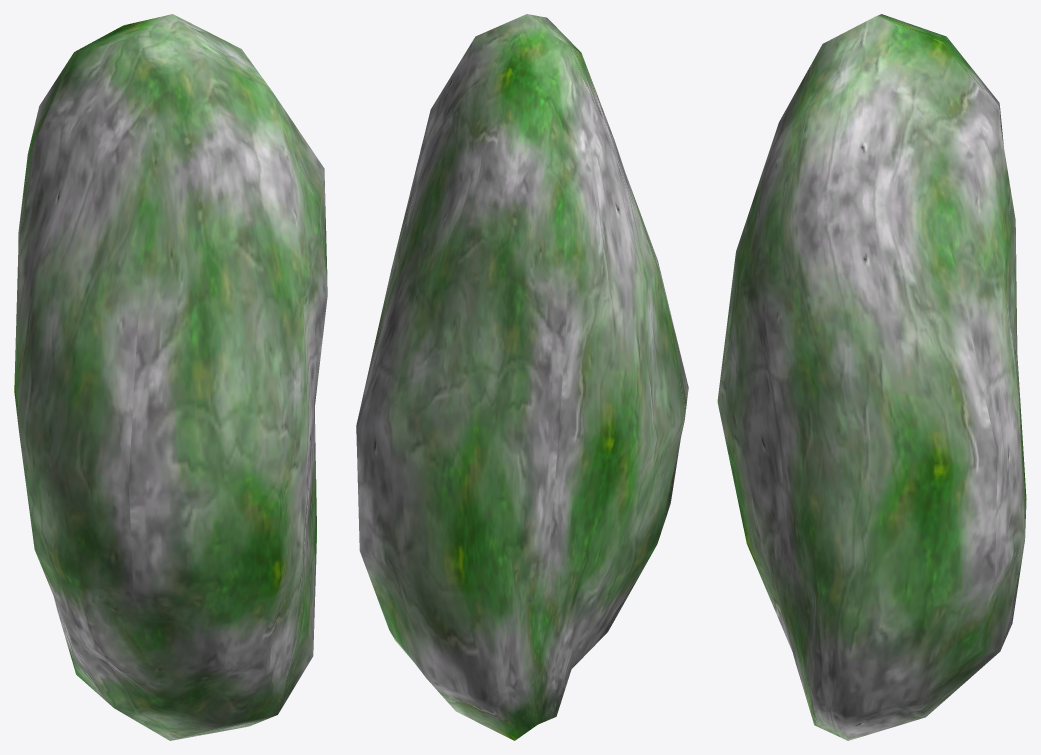
The model's file is INST_HTOWN_ROCKB.fbx.
3 views of the same model, side by side, from view 1: azimuth 30°, elevation 25°; view 2: azimuth 150°, elevation 25°; view 3: azimuth 270°, elevation 25° (orthographic). The views are drawn at different scales.
Parts seen in each view (by area): view 1: INST_HTOWN_ROCKB; view 2: INST_HTOWN_ROCKB; view 3: INST_HTOWN_ROCKB.
Part boxes in pixels (bbox=[...]): INST_HTOWN_ROCKB: bbox=[14, 14, 327, 740]; INST_HTOWN_ROCKB: bbox=[356, 14, 688, 740]; INST_HTOWN_ROCKB: bbox=[717, 14, 1026, 740].
Size of the model in its own units: 20412 by 50960 by 20412.
Materials: 1 (1 with a texture image).
